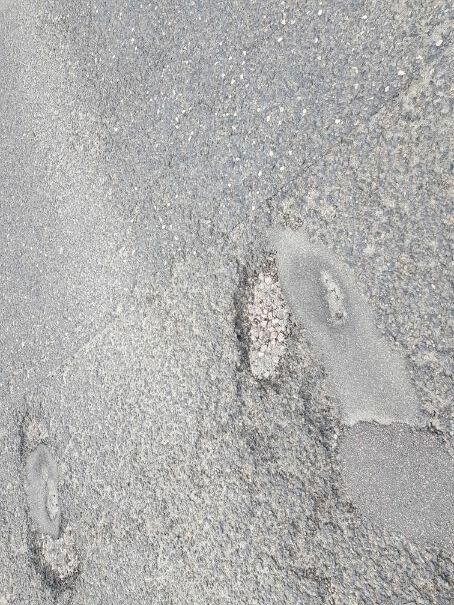pothole: (14, 399, 87, 597), (228, 235, 306, 389)
